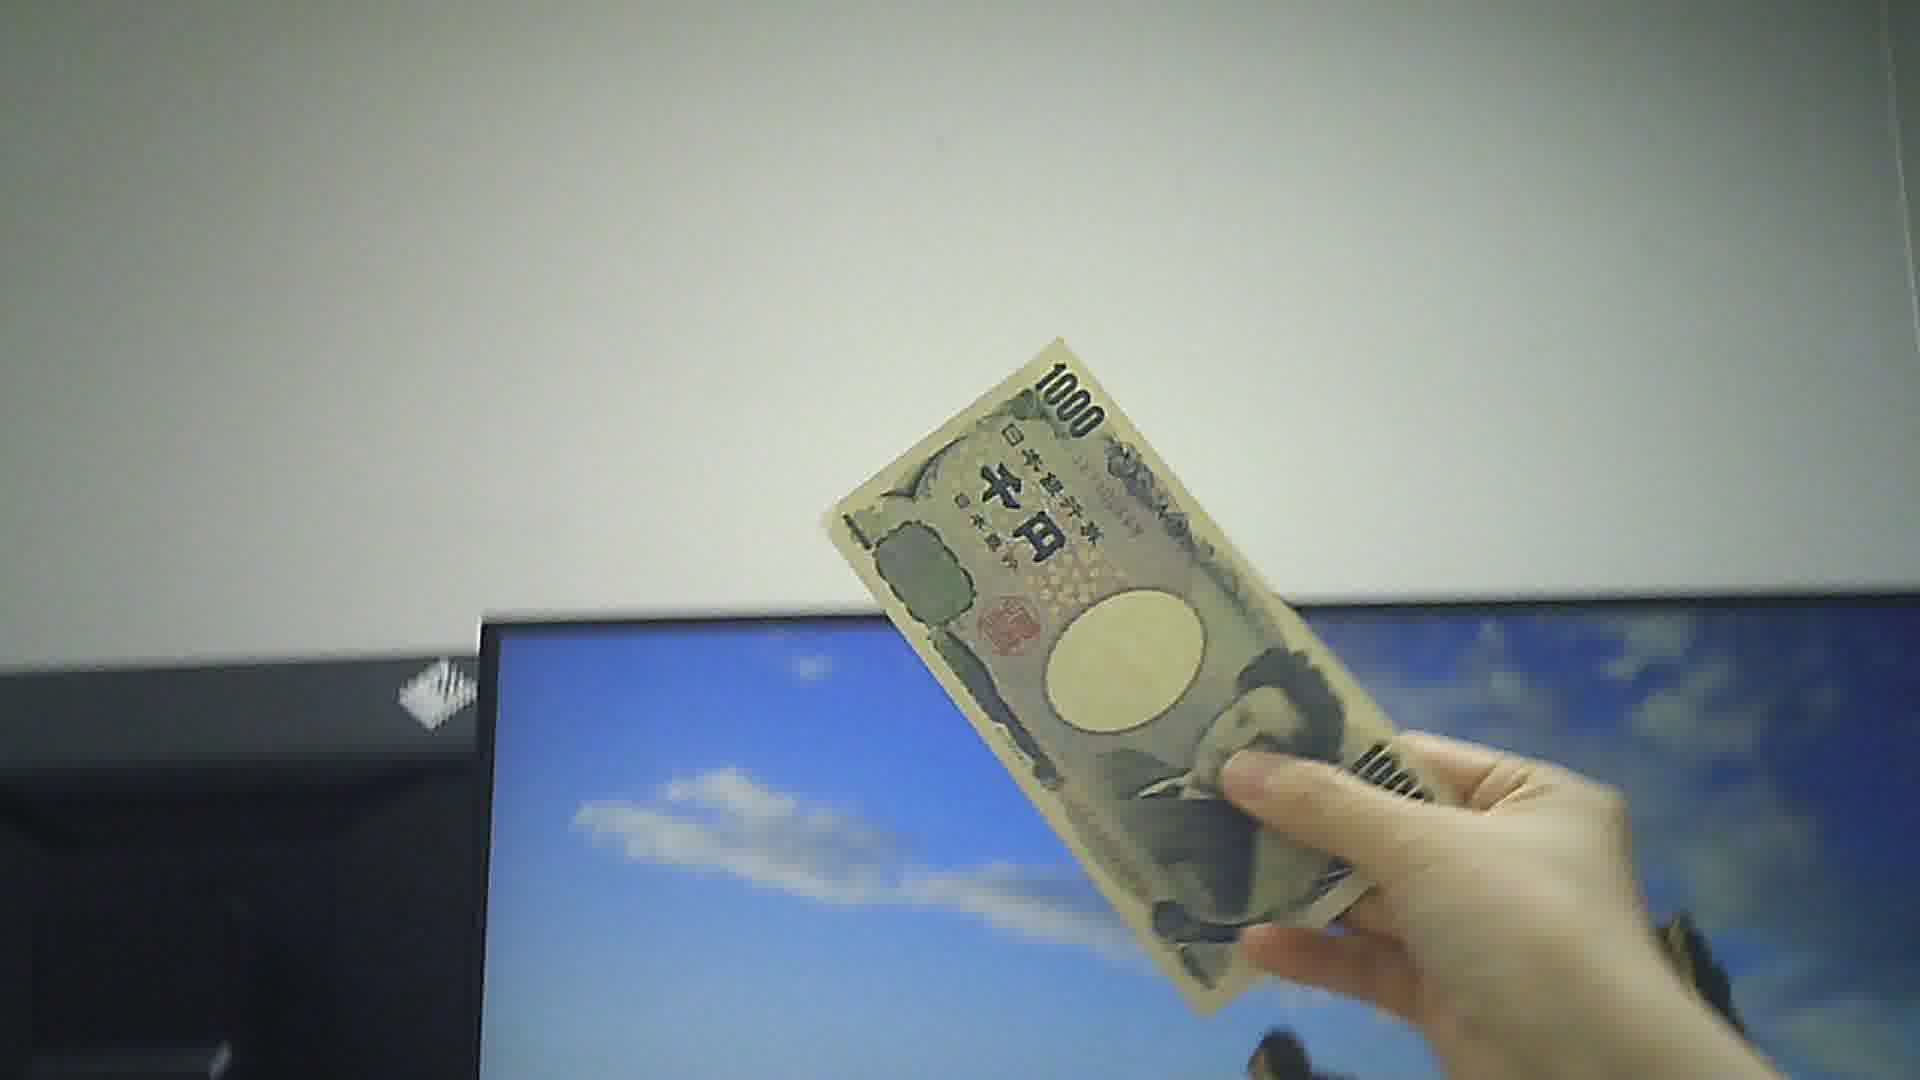1,000 Yen: (825, 323, 1468, 1060)
